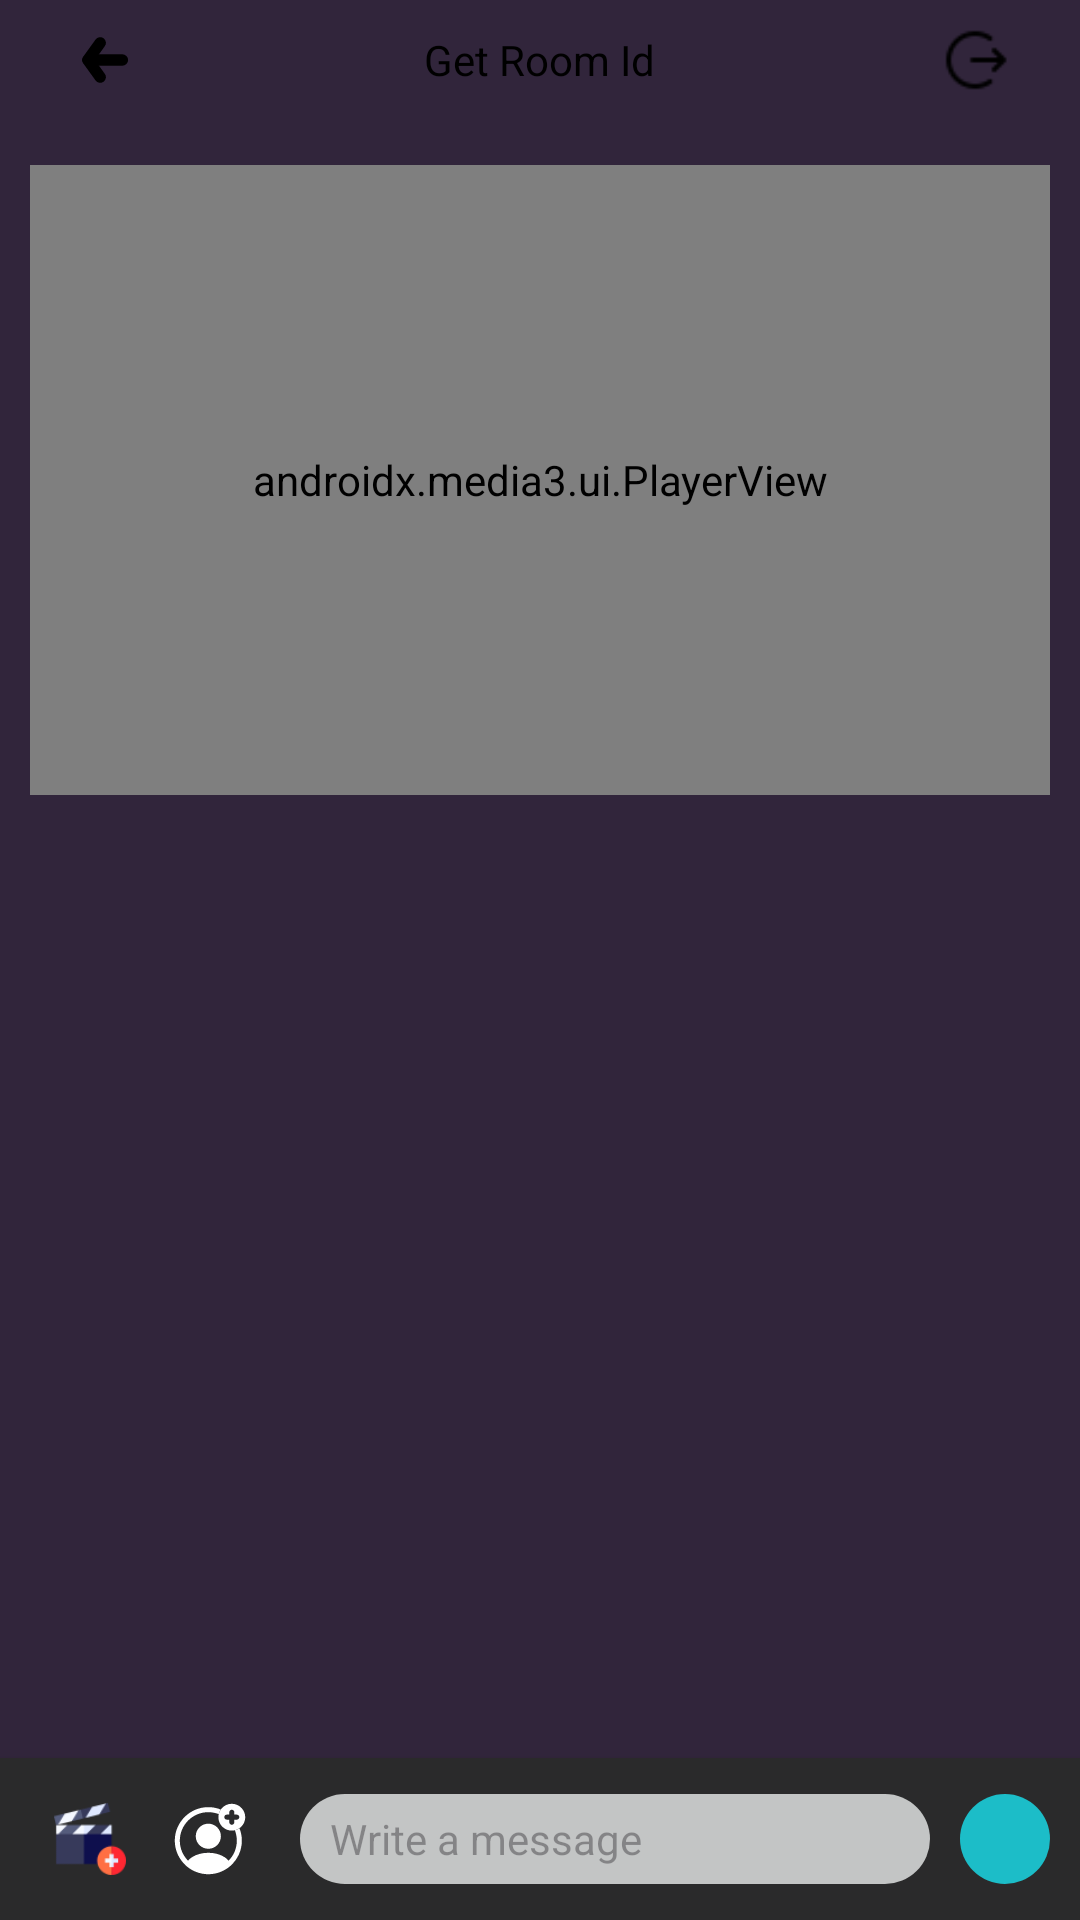

Icons on this 1080×1920 Android screen, each with the point to tap as (x,y):
add friend: (210,1839)
add movie: (90,1839)
back arrow: (105,60)
